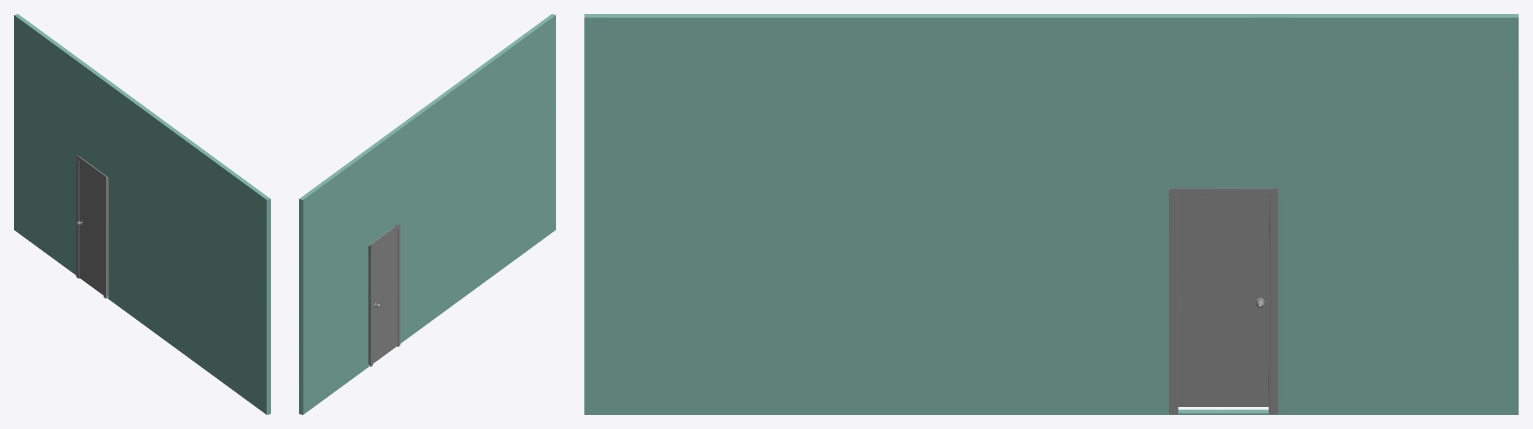
File: WallAndDoor.glb
The picture shows the model from 3 angles, left to right: view 1: azimuth 30°, elevation 25°; view 2: azimuth 150°, elevation 25°; view 3: azimuth 270°, elevation 25°; orthographic projection. The views are drawn at different scales.
Visible parts, largest first — view 1: Cylinder.030_0; view 2: Cylinder.030_0; view 3: Cylinder.030_0.
Boxes of the visible parts, x1,y1,x2,y2 form: Cylinder.030_0: [14, 14, 270, 414]; Cylinder.030_0: [299, 14, 555, 414]; Cylinder.030_0: [584, 14, 1518, 414].
Size of the model in its own units: 0.3639 by 5.91 by 12.59.
3 materials, 3 textured.
